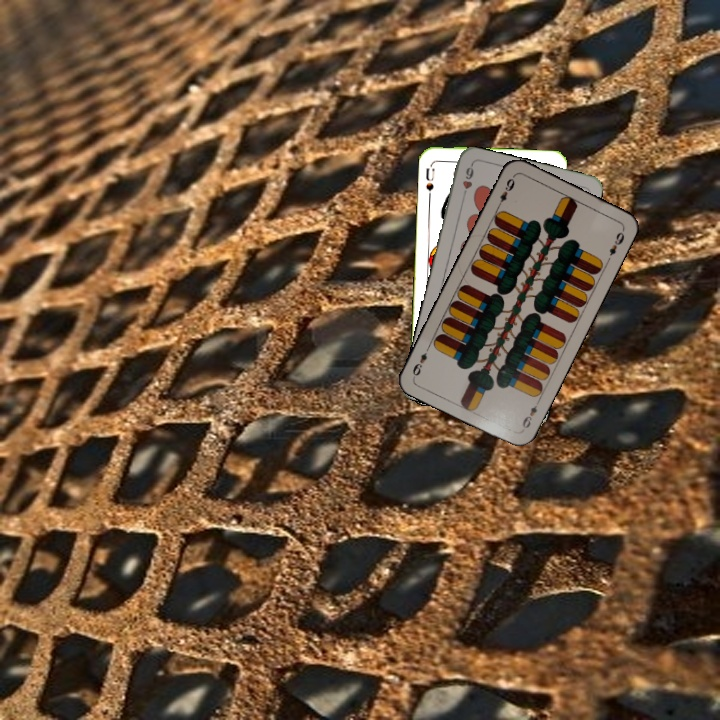E9: (493, 172, 517, 210), (518, 401, 540, 431)
H9: (458, 161, 476, 201)
SU: (422, 164, 437, 200)
